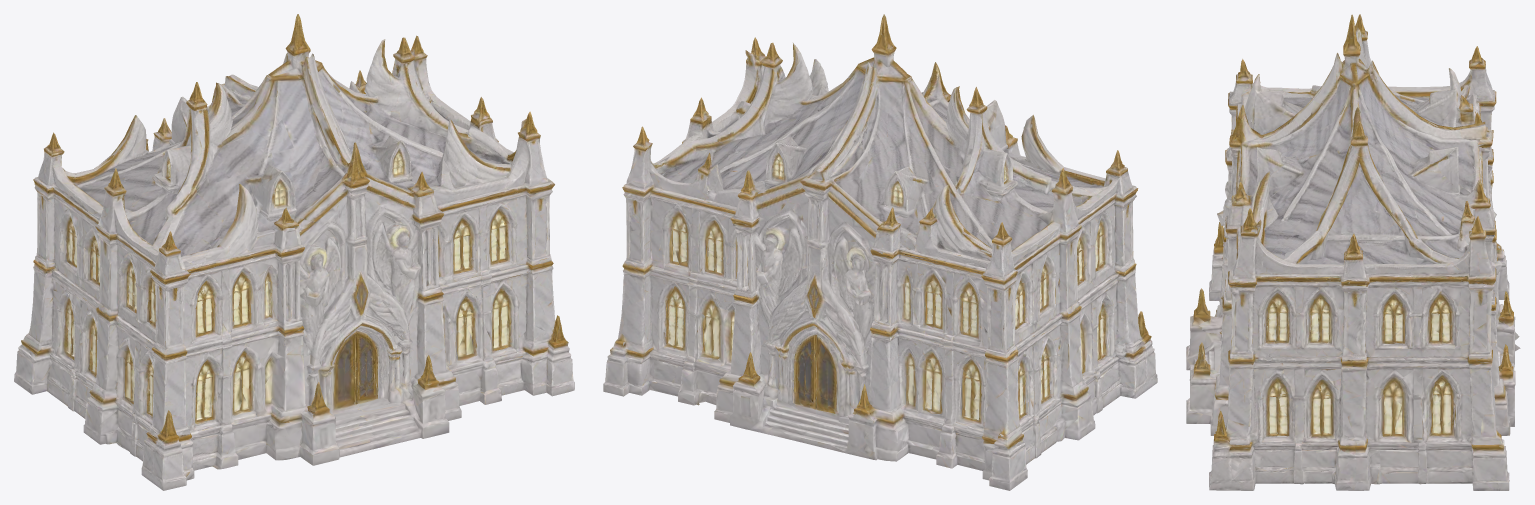
Rendered from sq-angel1.glb.
3 renders of one model, left to right at view 1: azimuth 30°, elevation 25°; view 2: azimuth 150°, elevation 25°; view 3: azimuth 270°, elevation 25°, orthographic.
Parts seen in each view (by area): view 1: lod0; view 2: lod0; view 3: lod0.
Part boxes in pixels (x1,y1,x2,y2): lod0: (14,14,574,490); lod0: (603,14,1157,490); lod0: (1186,14,1520,490).
Size of what is drawn, in the model's own units: 1.9 by 1.65 by 1.33.
1 material, 1 textured.
